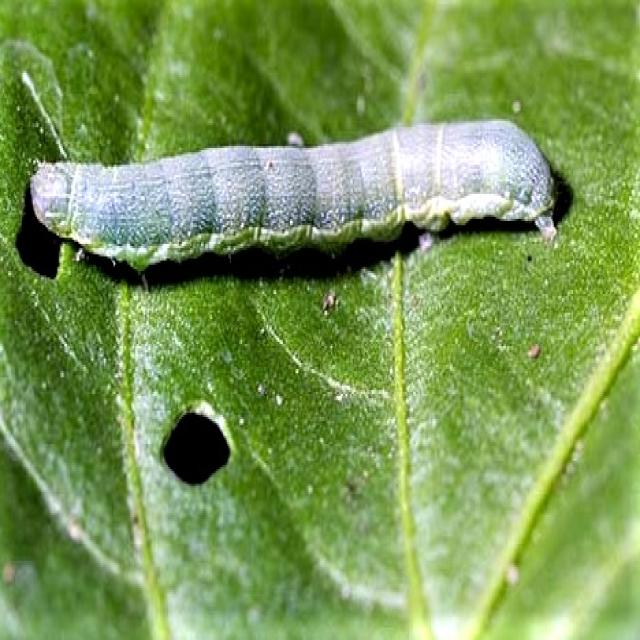armyworm: (29, 115, 559, 271)
